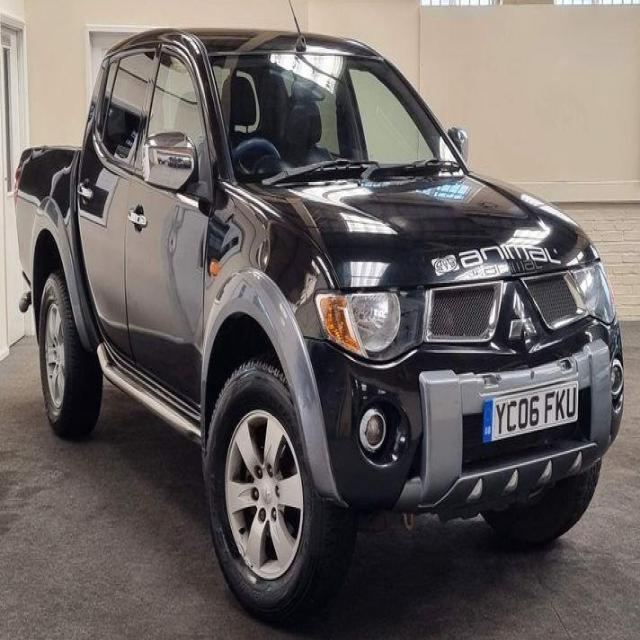CMT: (7, 23, 625, 608)
